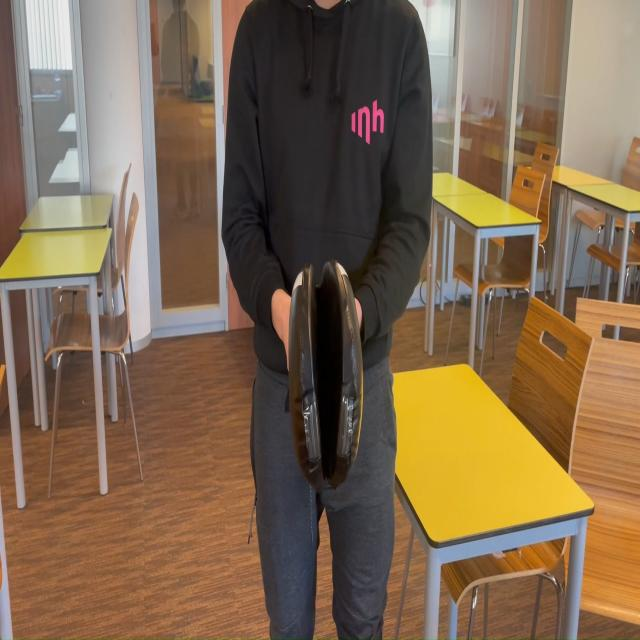paddle: (294, 271, 359, 489)
